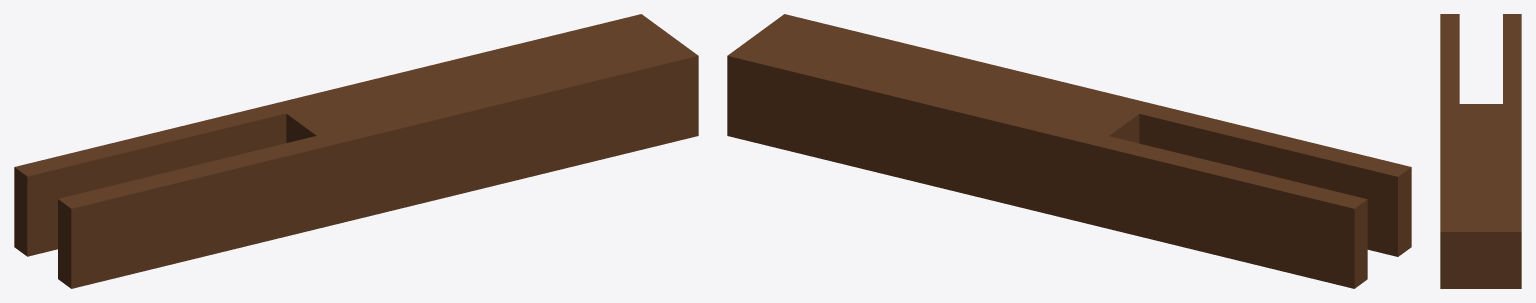
Rendered from tutucu.fbx.
3 renders of one model, left to right at view 1: azimuth 30°, elevation 25°; view 2: azimuth 150°, elevation 25°; view 3: azimuth 270°, elevation 25°, orthographic. The views are drawn at different scales.
Visible parts, largest first — view 1: Cube; view 2: Cube; view 3: Cube.
Part boxes in pixels (box(x1,y1,x2,y2)): Cube: box(14, 14, 698, 288); Cube: box(727, 14, 1411, 288); Cube: box(1440, 14, 1521, 288).
Bounding box in the file's own units: 8.09 × 0.9881 × 1.28.
